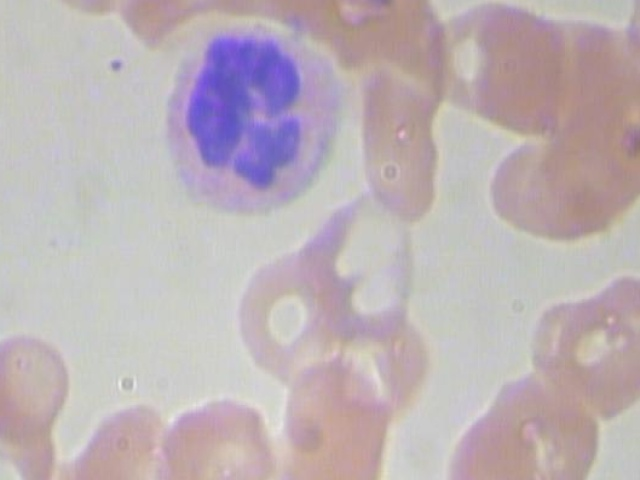RBC: (265, 359, 397, 480), (355, 70, 455, 224), (479, 363, 607, 480), (142, 385, 279, 480), (236, 253, 336, 379), (0, 322, 74, 442), (0, 402, 63, 480)
WBC: (140, 15, 355, 227)
